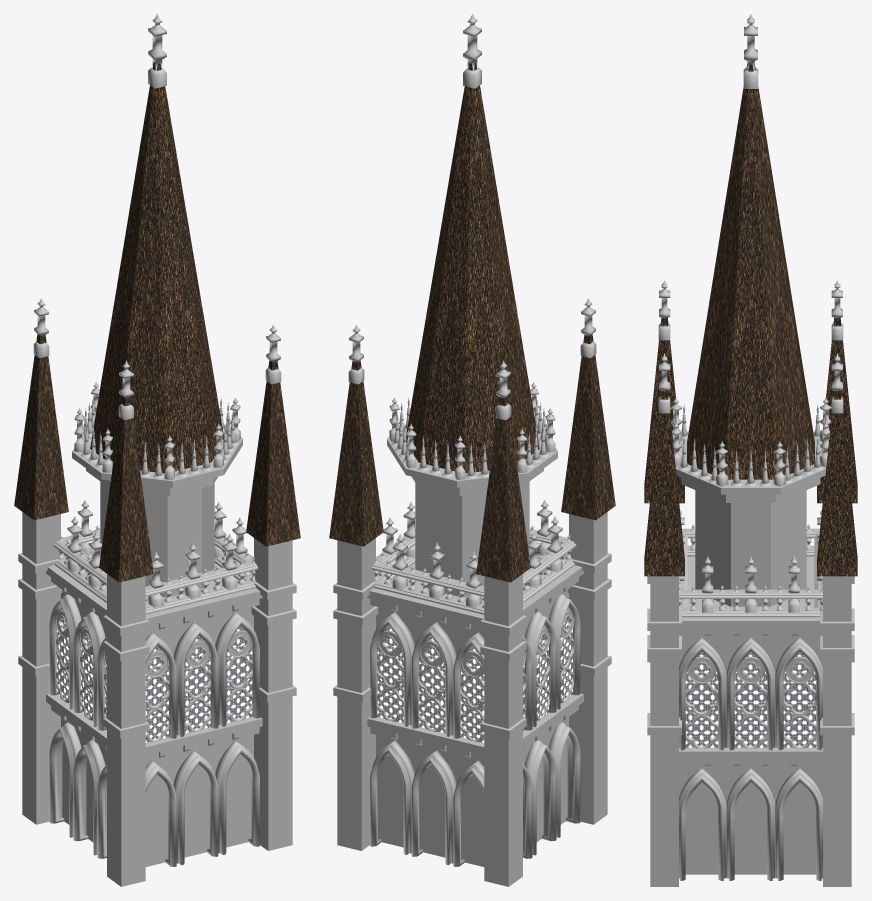
The model's file is SM_ModularTowerTop-1.fbx.
The picture shows the model from 3 angles, left to right: view 1: azimuth 30°, elevation 25°; view 2: azimuth 150°, elevation 25°; view 3: azimuth 270°, elevation 25°; orthographic projection.
Visible parts, largest first — view 1: SM_ModularTowerTop-1_LOD0; view 2: SM_ModularTowerTop-1_LOD0; view 3: SM_ModularTowerTop-1_LOD0.
Boxes of the visible parts, x1,y1,x2,y2 form: SM_ModularTowerTop-1_LOD0: [14, 14, 300, 886]; SM_ModularTowerTop-1_LOD0: [329, 14, 615, 886]; SM_ModularTowerTop-1_LOD0: [644, 14, 857, 886].
Bounding box in the file's own units: 741 × 741 × 3180.
